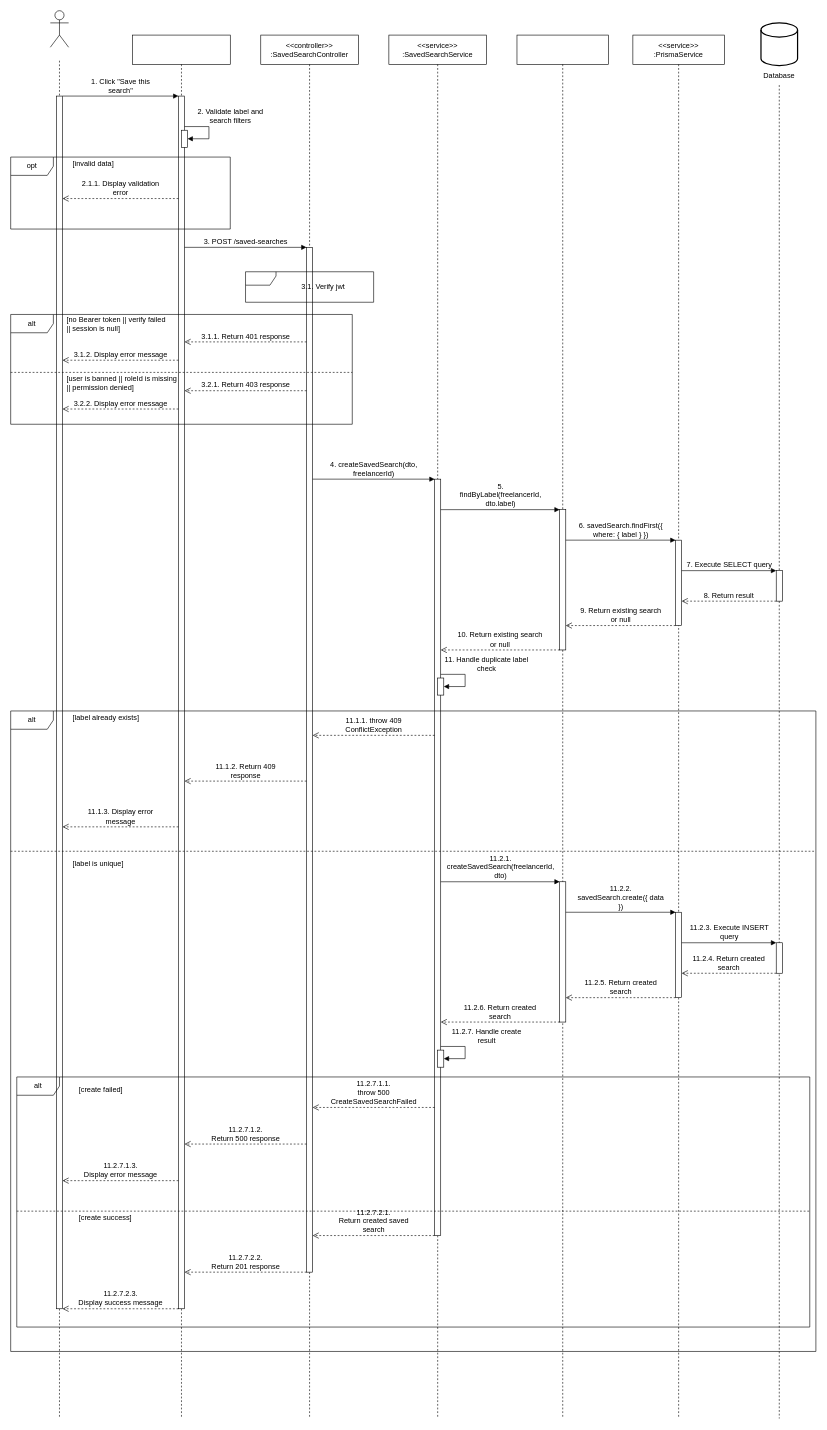
Some shapes in this 827 by 1430 pixel diagram are drawn without their labels. The box of each missing label's shape, as (x1, y1, x2, y2) in pixels:
<<boundary>> JobListPage: (132, 34, 230, 1419)
<<repository>> :SavedSearchRepo: (516, 34, 608, 1419)
Freelancer: (50, 10, 69, 47)
ref: (245, 271, 374, 302)
